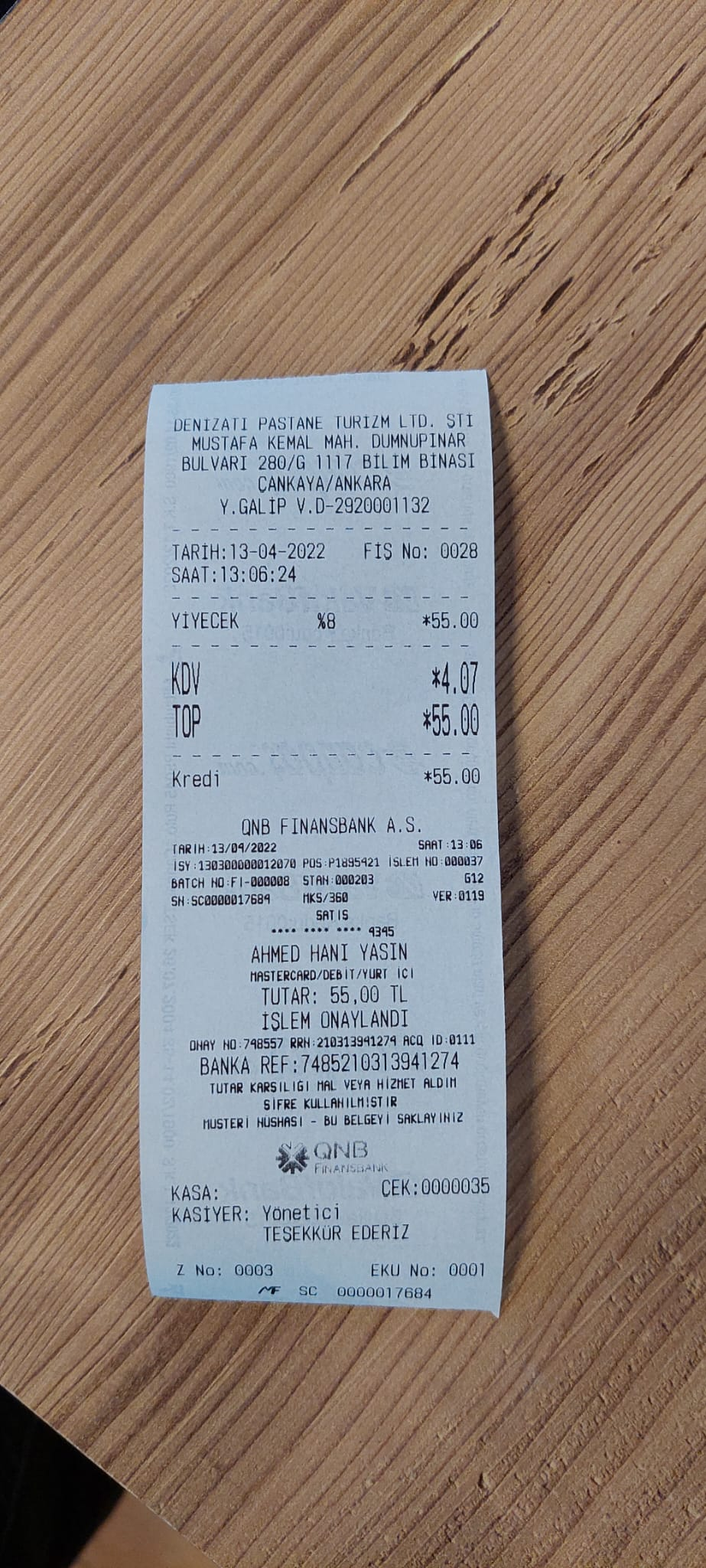date: (229, 536, 332, 565)
price: (427, 695, 490, 740)
workplace: (172, 408, 482, 494)
